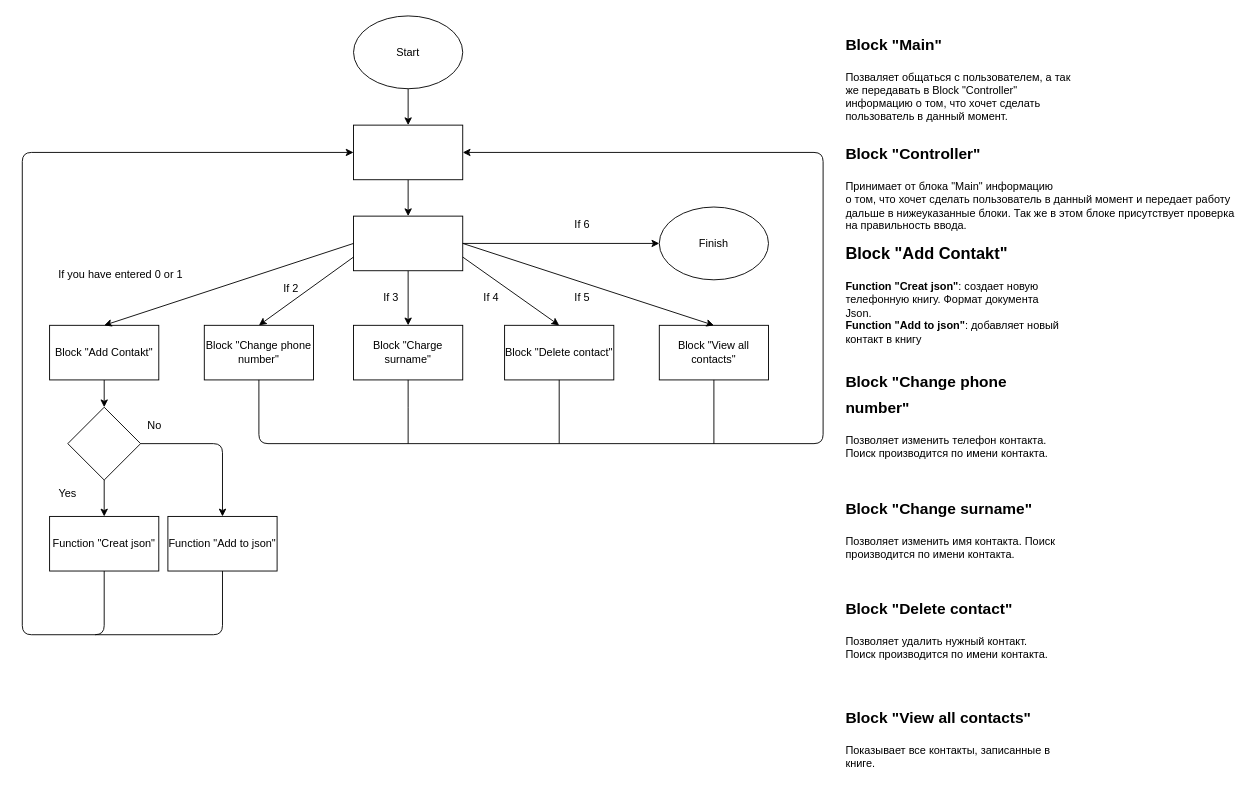
Some shapes in this 1258 by 796 pixel diagram are drawn without their labels. Here are the shapes that lost their labels. From the top down, the centre of each, then its label:
[408,152]: Block "Main"
[408,243]: Block "Controller"
[104,443]: Enter 0?
